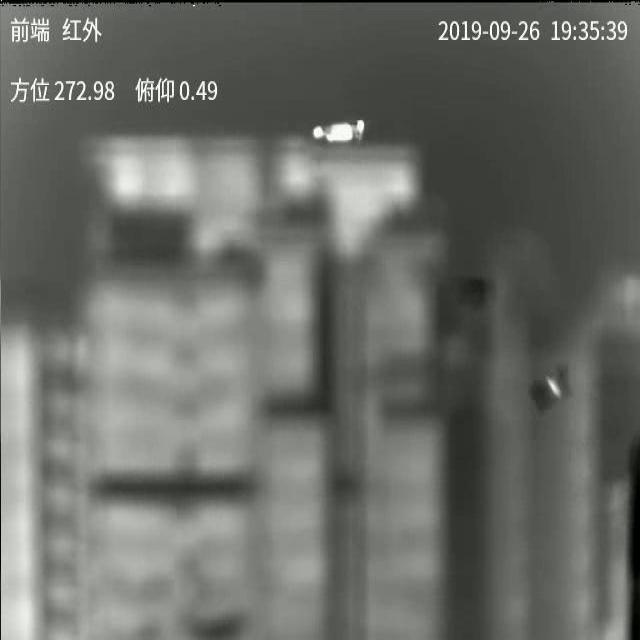drone: (310, 119, 364, 144)
